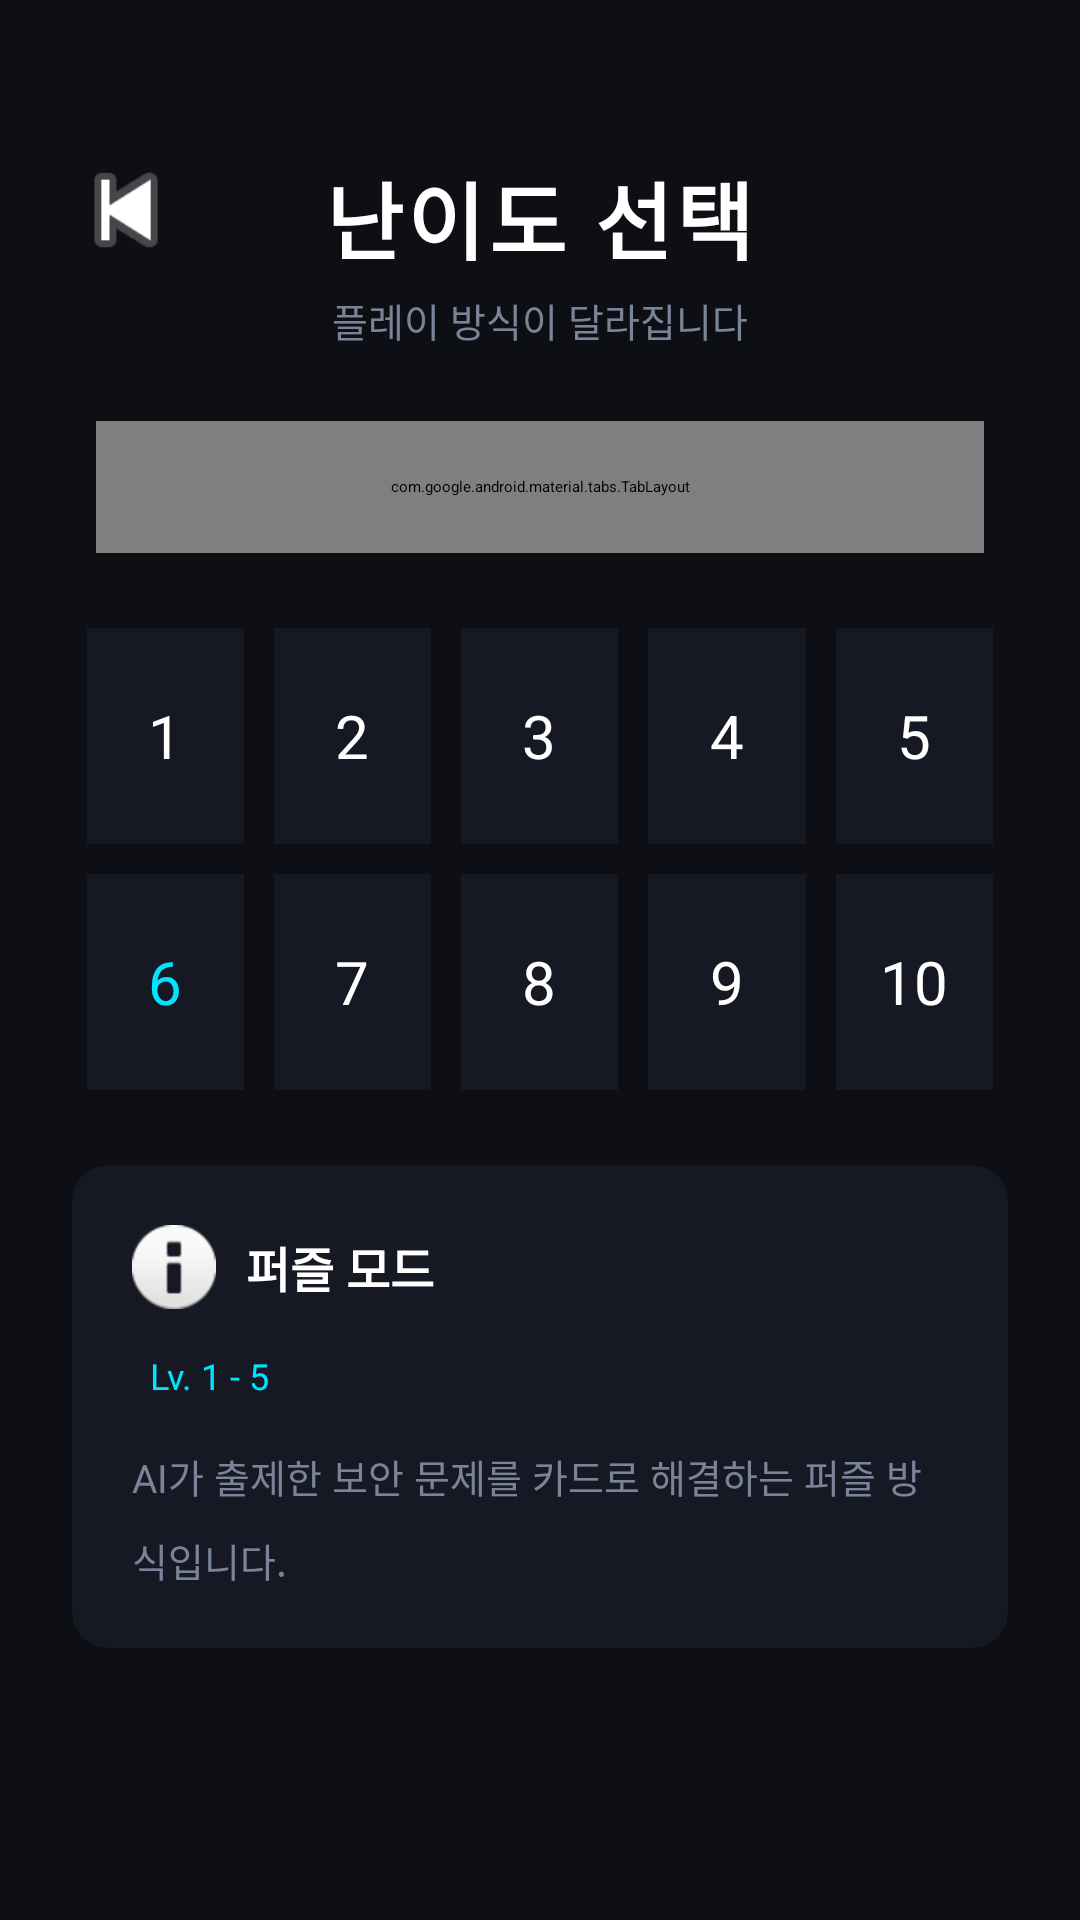

Icons on this 1080x1920 Android screen, each with the point to tap as [x,y]:
뒤로가기: [126,210]
